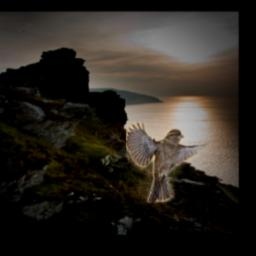Sparrow: (127, 122, 217, 203)
